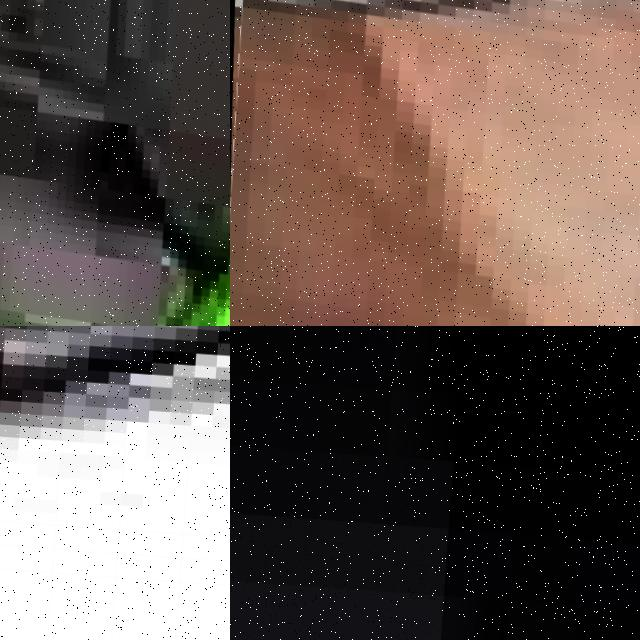drone: (230, 0, 640, 326), (0, 0, 230, 326)
